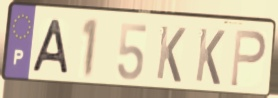1: (79, 16, 100, 82)
5: (116, 21, 149, 82)
A: (30, 18, 71, 77)
K: (154, 24, 188, 86), (193, 26, 227, 88)
P: (228, 27, 268, 90)
